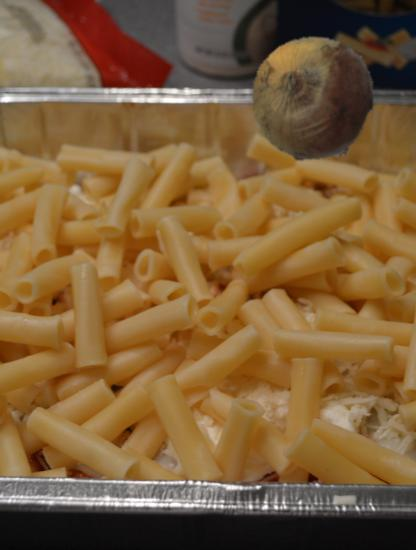Onion: (248, 35, 378, 165)
